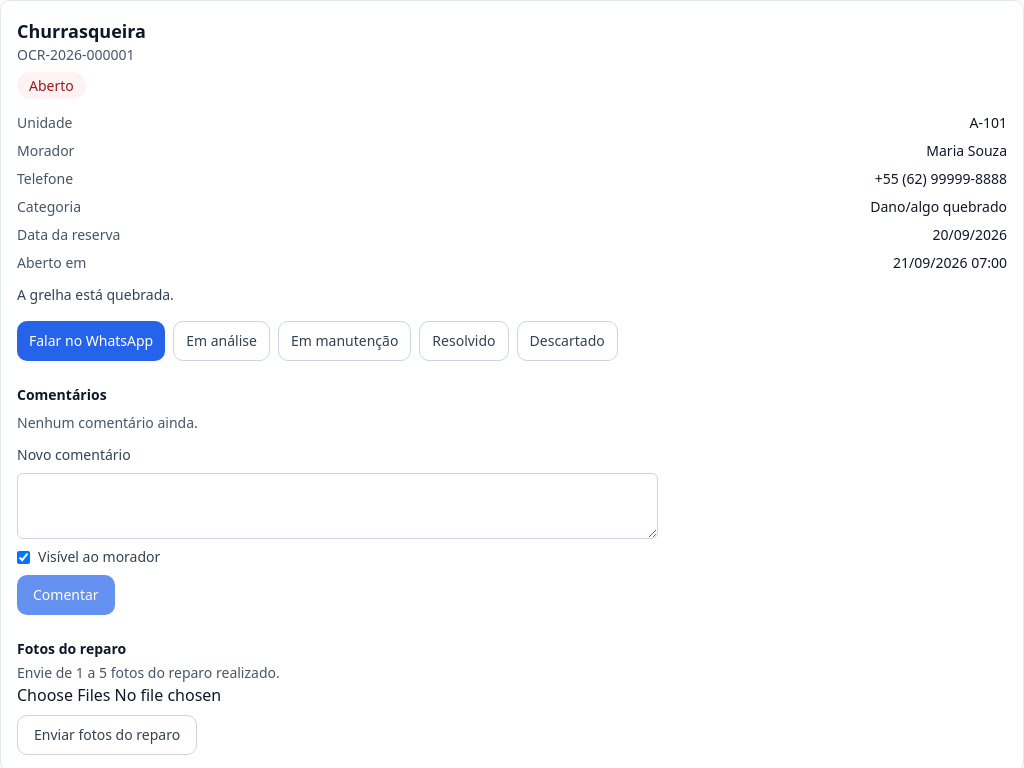
ReportDetailPanel (RF-REP-03/04, RN-36, RN-37) › em 409 INVALID_STATUS_TRANSITION mostra o detail e recarrega
The width and height of the screenshot is (1024, 768).
What coordinates should you click on to do the following:
click the button "Em análise"
I would click on:
 (222, 341)
Its box is 173,321 -> 270,361.
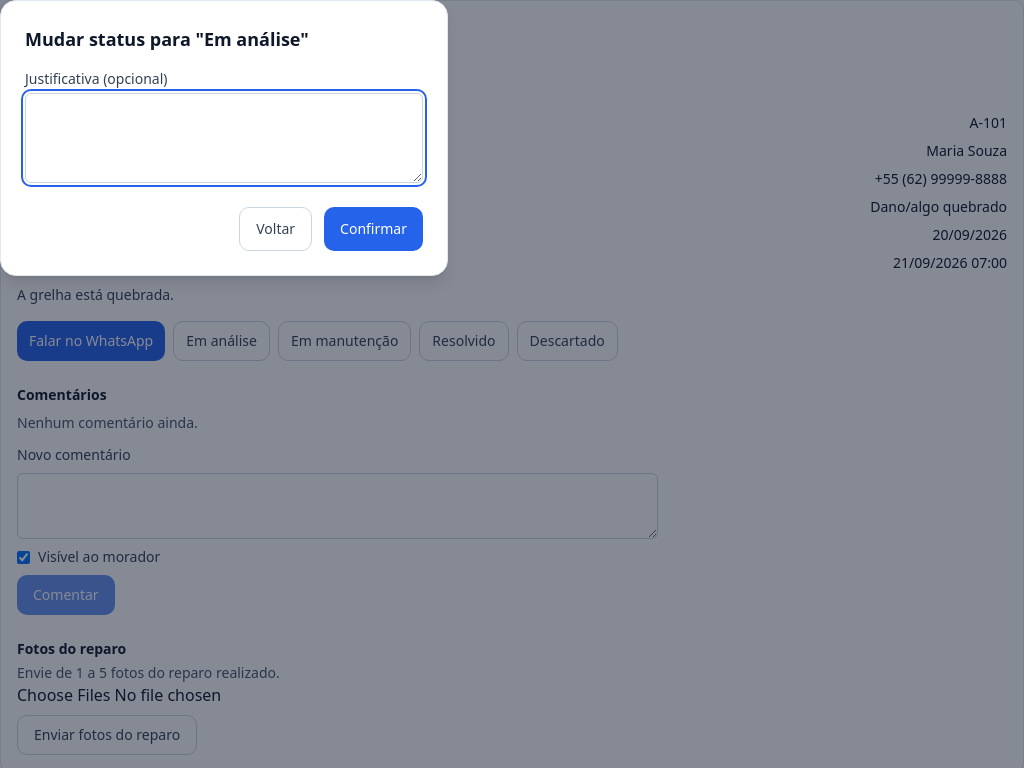
What coordinates should you click on to do the following:
click the button "Confirmar"
I would click on:
 (374, 229)
Its box is 324,207 -> 423,251.
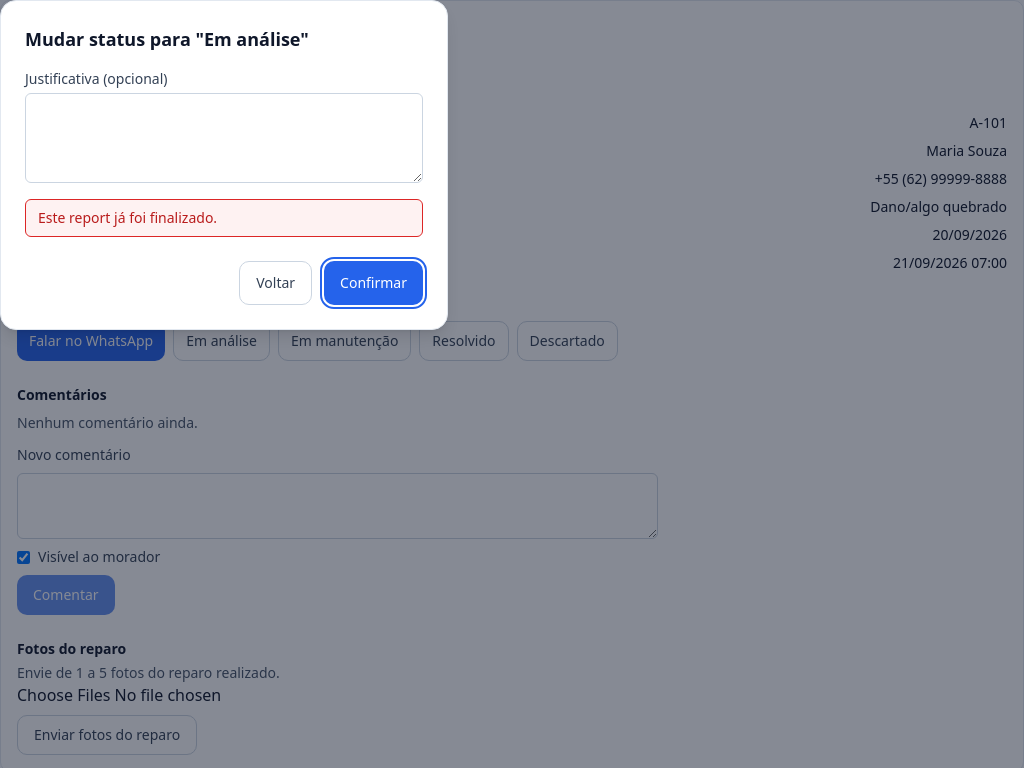
Now the text "Este report já foi finalizado." is shown, box 25,199 -> 423,237
